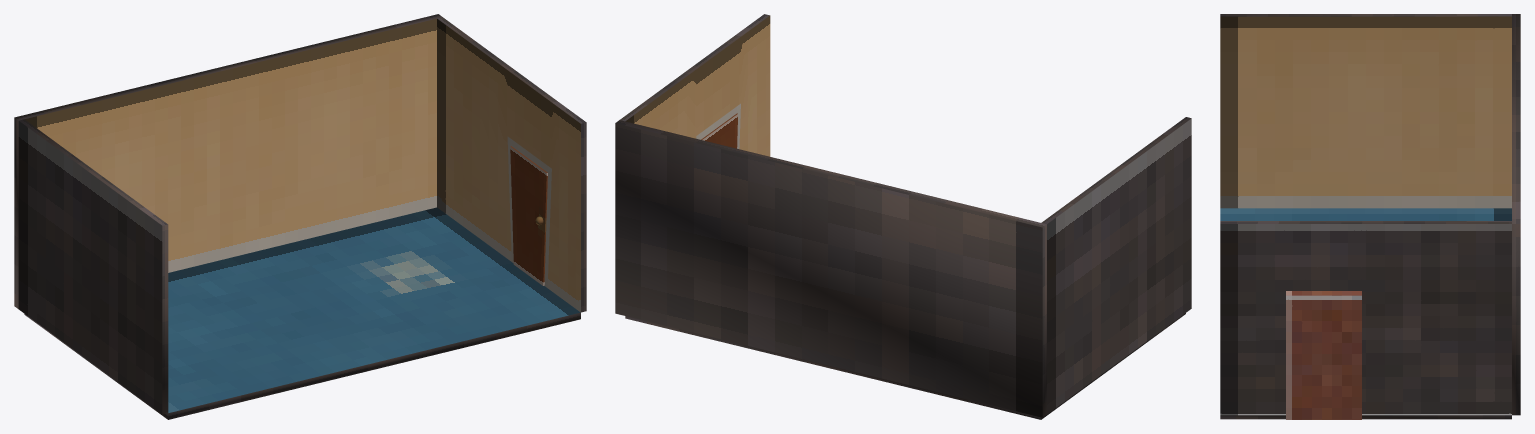
File: RoomImport5.fbx
The picture shows the model from 3 angles, left to right: view 1: azimuth 30°, elevation 25°; view 2: azimuth 150°, elevation 25°; view 3: azimuth 270°, elevation 25°; orthographic projection.
Visible parts, largest first — view 1: polymsh_detached6, polymsh_detached2, Room, polymsh_detached, Door, polymsh_detached7, polymsh_detached5, polymsh, polymsh_detached3; view 2: polymsh_detached5, Room, polymsh_detached, polymsh_detached7, polymsh, Door; view 3: polymsh_detached8, polymsh, BrickWall, polymsh_detached2, polymsh_detached5, polymsh_detached7, Room.
Part boxes in pixels (bbox=[...]): polymsh_detached6: bbox=[24, 18, 436, 272]; polymsh_detached2: bbox=[168, 207, 580, 412]; Room: bbox=[18, 119, 168, 414]; polymsh_detached: bbox=[437, 19, 580, 312]; Door: bbox=[510, 146, 547, 285]; polymsh_detached7: bbox=[24, 312, 580, 419]; polymsh_detached5: bbox=[14, 14, 442, 308]; polymsh: bbox=[437, 17, 586, 312]; polymsh_detached3: bbox=[507, 136, 551, 287]; polymsh_detached5: bbox=[615, 120, 1046, 417]; Room: bbox=[1041, 117, 1191, 414]; polymsh_detached: bbox=[625, 15, 770, 156]; polymsh_detached7: bbox=[625, 313, 1185, 419]; polymsh: bbox=[620, 14, 769, 121]; Door: bbox=[701, 113, 737, 148]; polymsh_detached8: bbox=[1220, 16, 1511, 208]; polymsh: bbox=[1220, 221, 1511, 415]; BrickWall: bbox=[1286, 291, 1361, 419]; polymsh_detached2: bbox=[1220, 208, 1511, 220]; polymsh_detached5: bbox=[1512, 14, 1520, 415]; polymsh_detached7: bbox=[1220, 415, 1511, 419]; Room: bbox=[1220, 14, 1511, 16].
Bounding box in the file's own units: 13.93 × 6 × 8.24.
